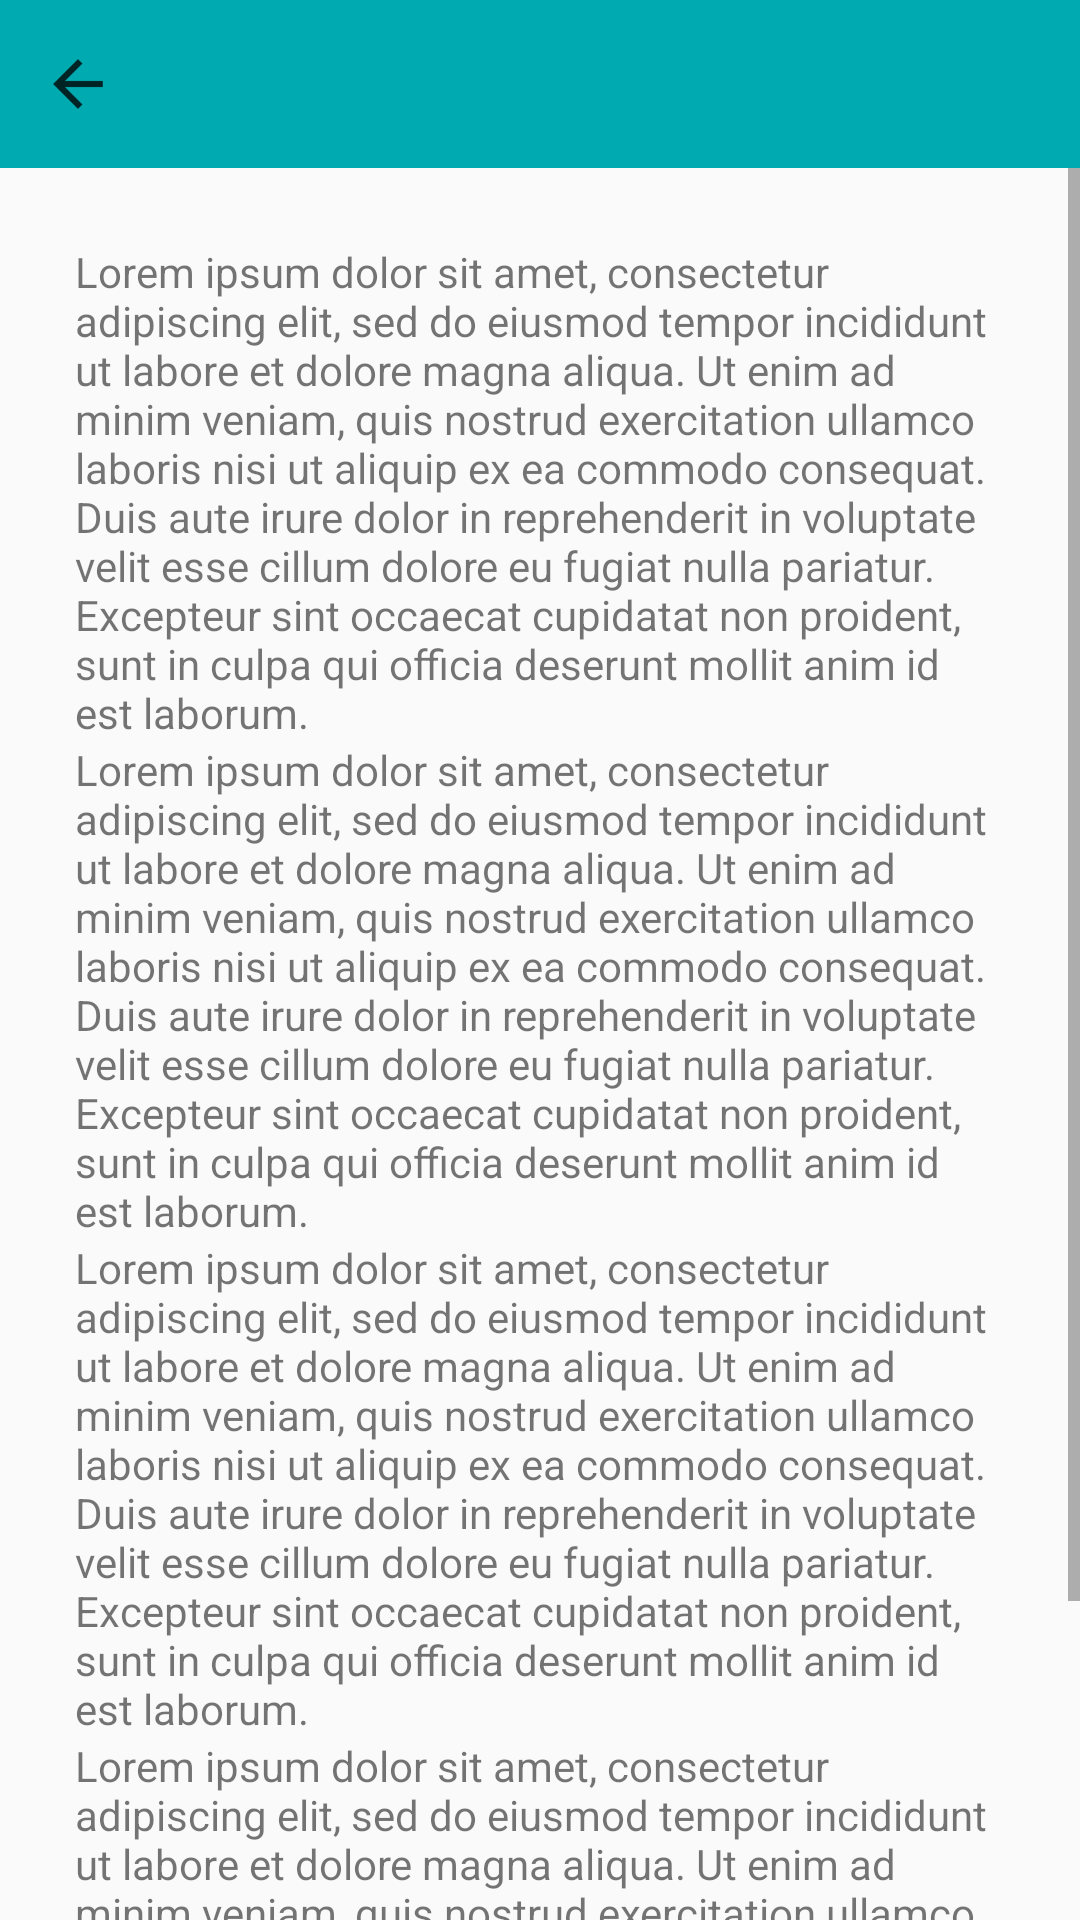

Icons on this 1080px×1920px Android screen, each with its box as [x1,y1,x2,y2]:
back arrow: [53,59,103,109]
